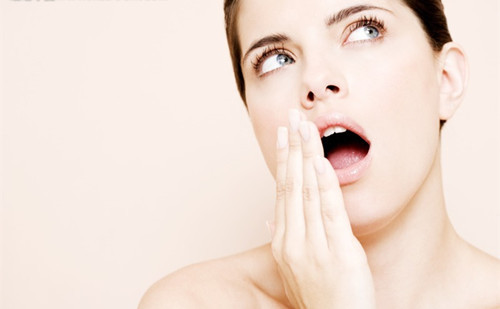face: (244, 1, 442, 222)
